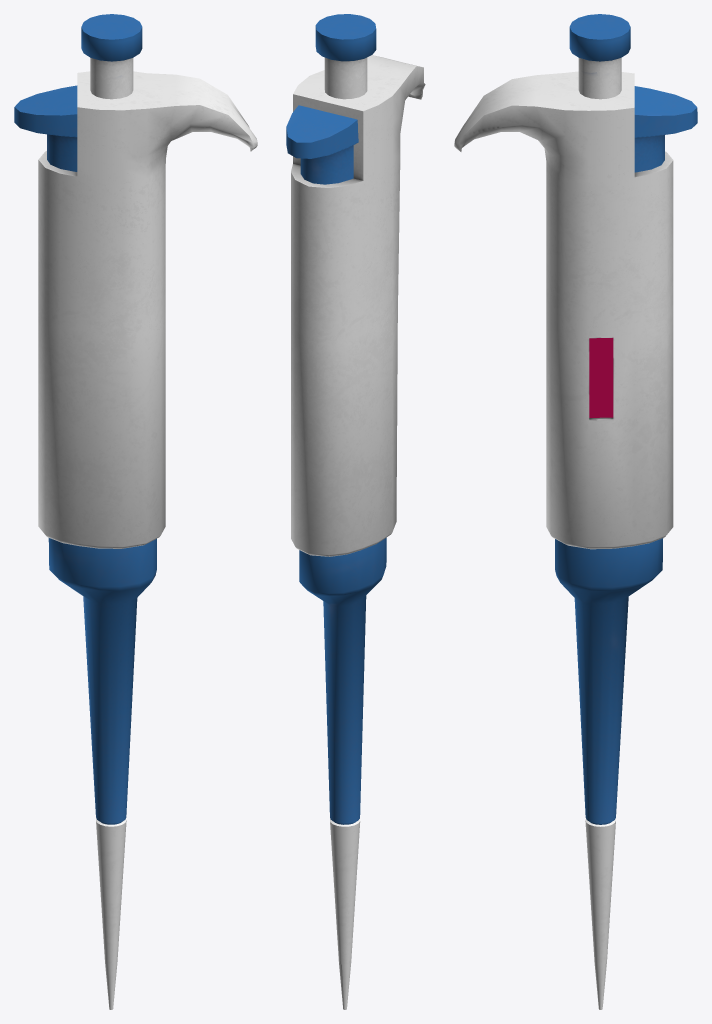
File: dispenser.fbx
3 renders of one model, left to right at view 1: azimuth 90°, elevation 25°; view 2: azimuth 150°, elevation 25°; view 3: azimuth 270°, elevation 25°, orthographic.
Visible parts, largest first — view 1: batcher, batcher_1; view 2: batcher, batcher_1; view 3: batcher, batcher_1, batcher_color.
Boxes of the visible parts, x1=… form: batcher: x1=14, y1=14, x2=257, y2=824; batcher_1: x1=96, y1=819, x2=126, y2=1009; batcher: x1=286, y1=14, x2=425, y2=824; batcher_1: x1=330, y1=819, x2=360, y2=1009; batcher: x1=454, y1=14, x2=697, y2=824; batcher_1: x1=585, y1=819, x2=615, y2=1009; batcher_color: x1=589, y1=338, x2=613, y2=417.
Size of the model in its own units: 1.95 by 22.01 by 4.94.
